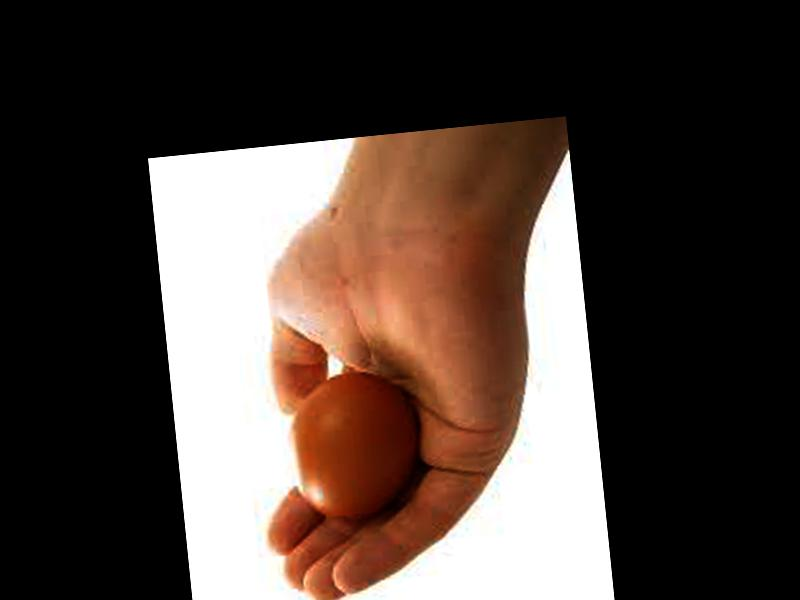Eggs: (285, 365, 423, 534)
